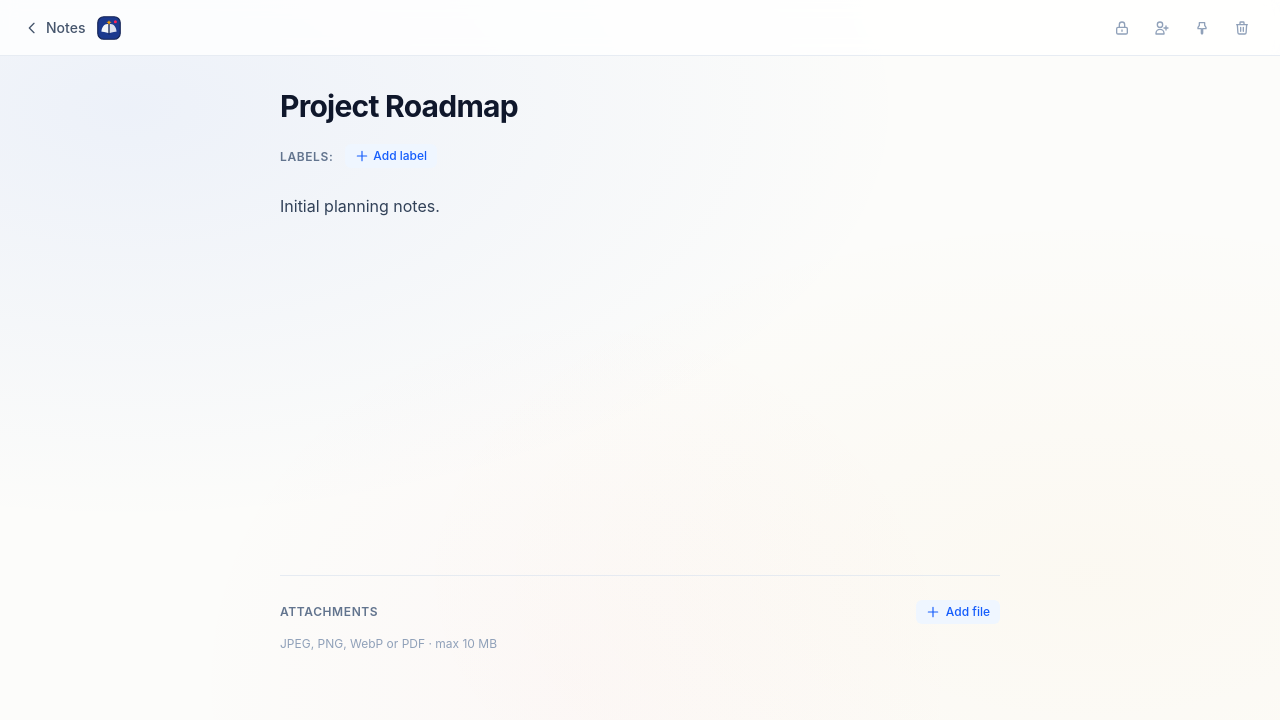
Test case: SHARE-03 & SHARE-04 Sharing and Permissions Tests › SHARE-03: User-to-User Sharing Flow › allows revoking a share with confirmation dialog
The image size is (1280, 720).
Click the button with test id "share-note-button": (1162, 28) 1148,14 -> 1176,42
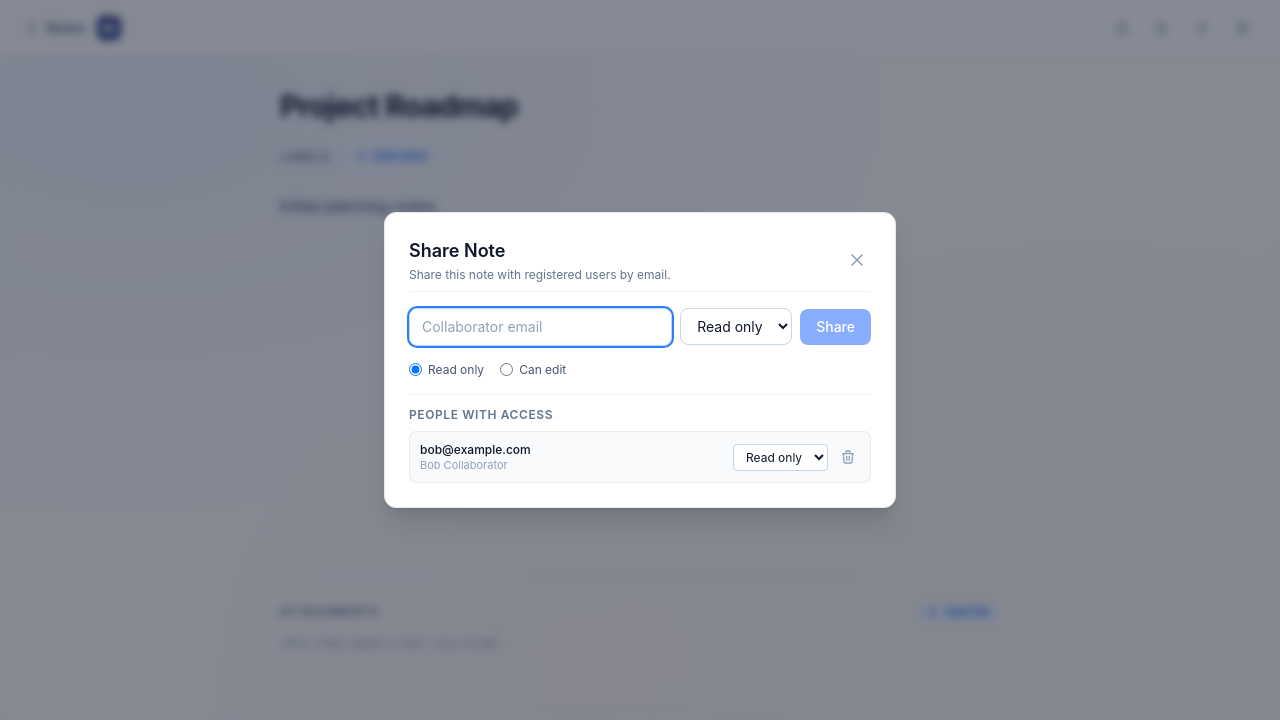
Expected: the element with test id "share-modal" is shown
Expected: the text "bob@example.com" is shown, 420,442 -> 531,458
// Click revoke button on Bob's share
Click the button with test id "revoke-share-button": (848, 457) 836,445 -> 860,469
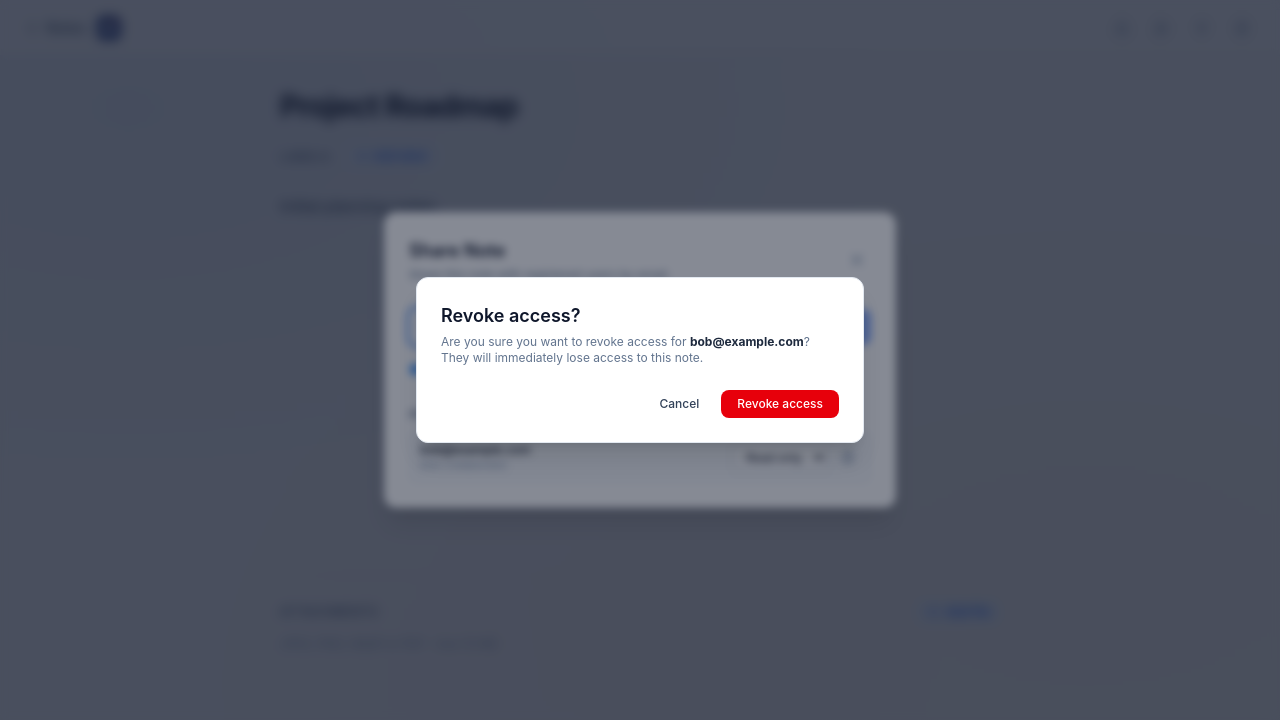
Expected: the element with test id "confirm-revoke-dialog" is shown
// Click cancel
Click the button with test id "cancel-revoke-button": (679, 404) 646,390 -> 713,418
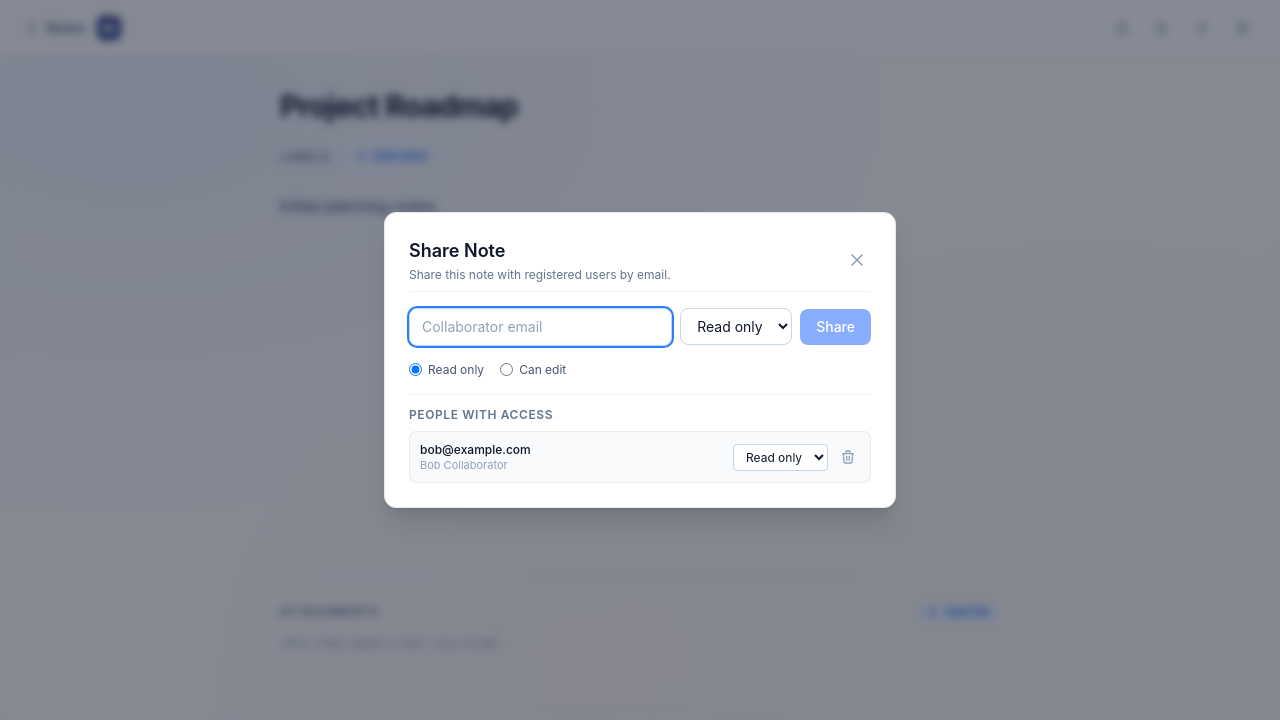
Expected: the element with test id "confirm-revoke-dialog" is gone
// Click revoke again and confirm
Click the button with test id "revoke-share-button": (848, 457) 836,445 -> 860,469
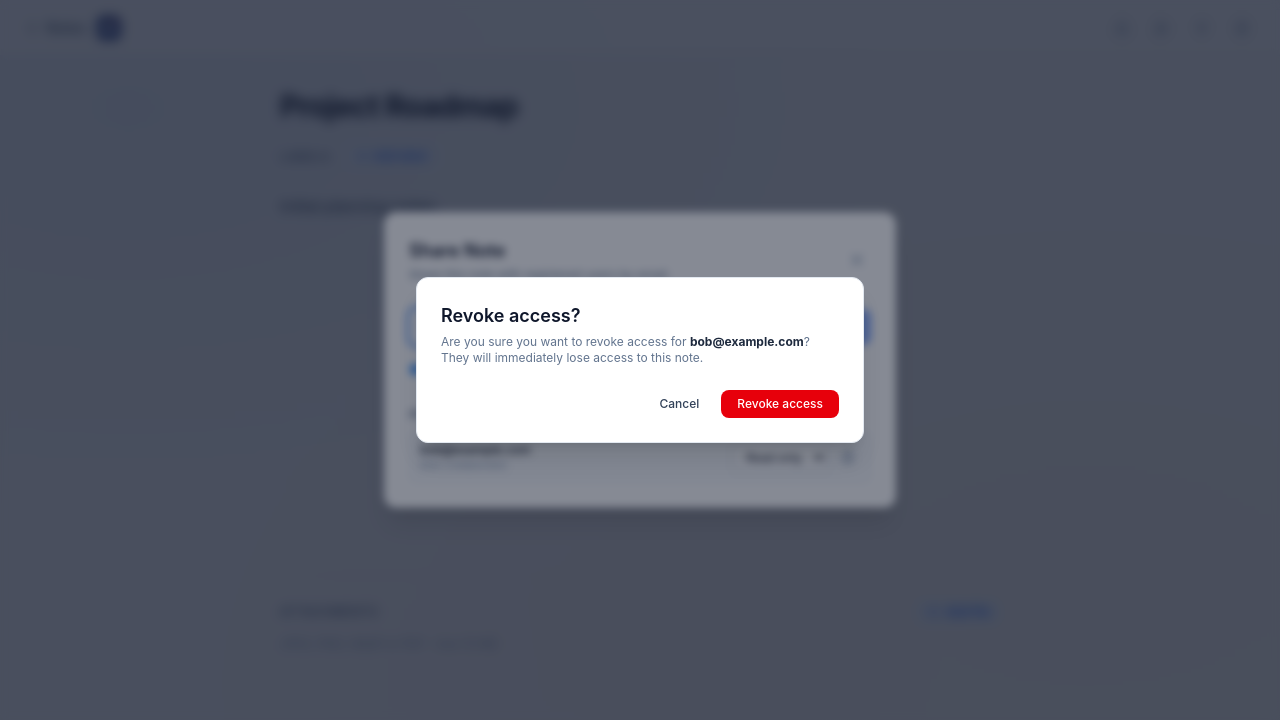
Click the button with test id "confirm-revoke-button": (780, 404) 721,390 -> 839,418
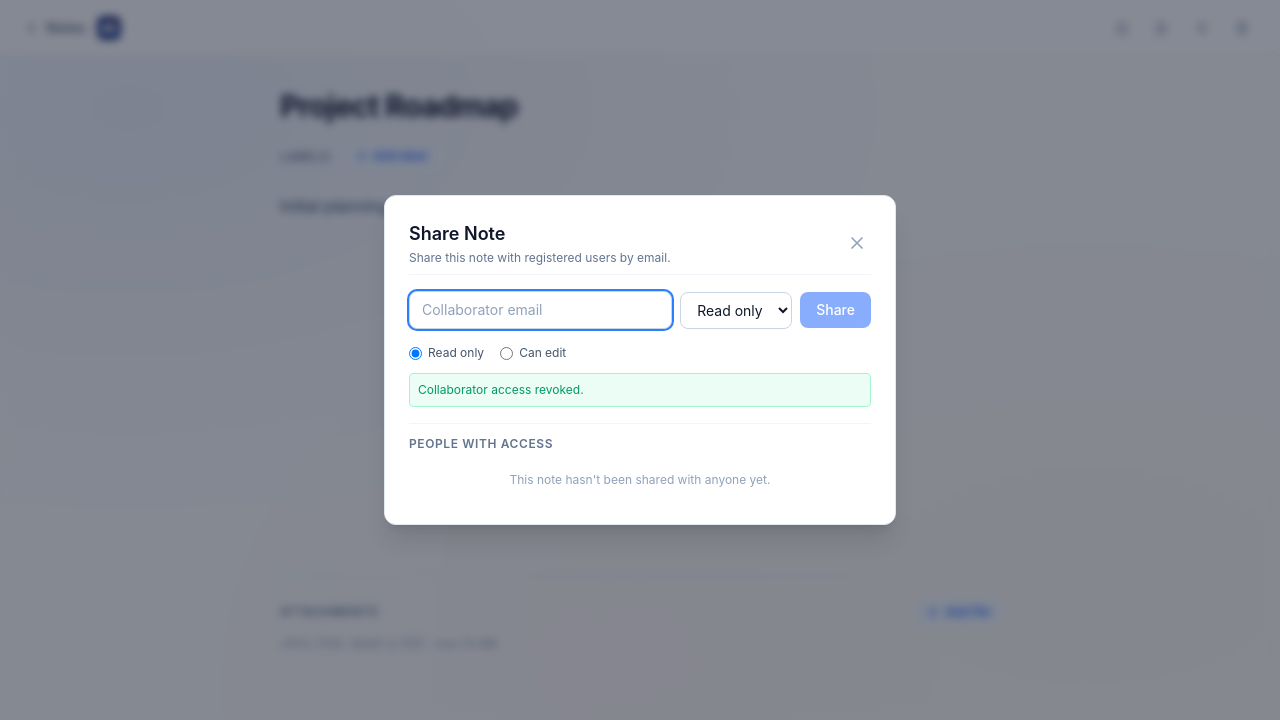
Expected: the element with test id "confirm-revoke-dialog" is gone
Expected: the text "bob@example.com" is gone
